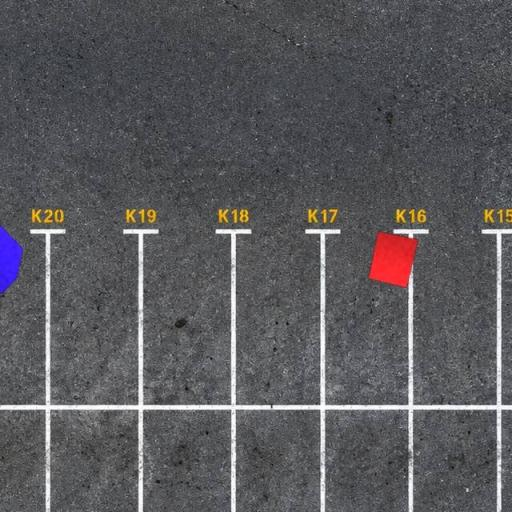RED_SQUARE: (367, 230, 419, 289)
